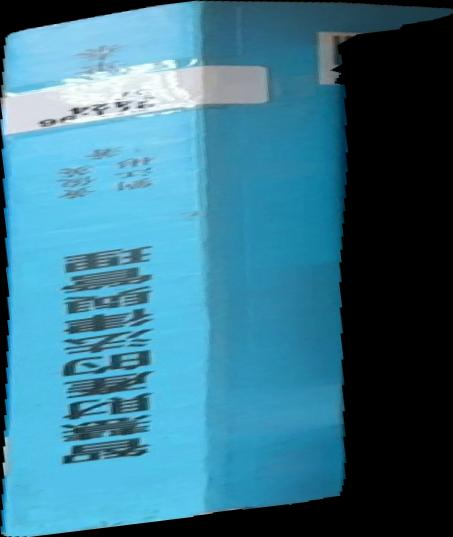reverse: (1, 1, 453, 537)
